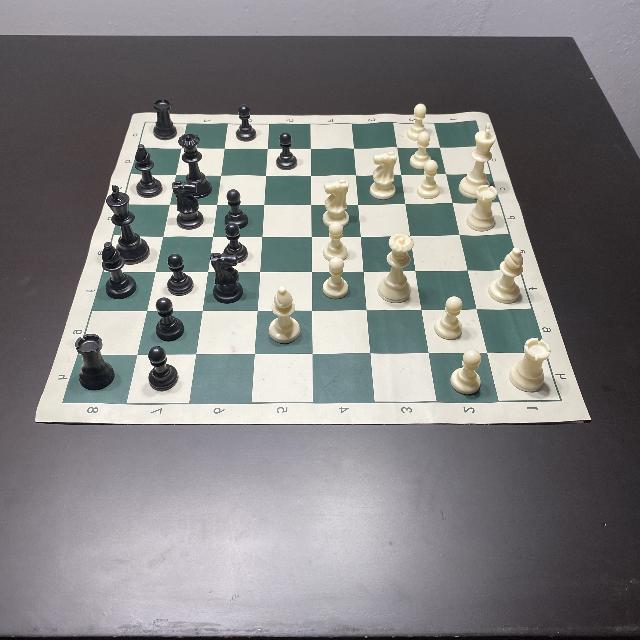black-bishop: (100, 243, 138, 299), (134, 144, 162, 198)
black-king: (106, 184, 150, 266)
black-knight: (210, 254, 244, 302), (172, 181, 204, 229)
black-pawn: (147, 346, 179, 392), (154, 297, 183, 341), (166, 253, 194, 295), (222, 224, 248, 262), (225, 188, 248, 228), (236, 105, 256, 142), (276, 134, 296, 170)
black-queen: (178, 134, 210, 198)
black-rook: (75, 334, 115, 390), (154, 99, 176, 140)
board: (34, 112, 592, 424)
white-bishop: (488, 248, 524, 304), (270, 286, 300, 342)
white-king: (458, 123, 496, 199)
white-knight: (368, 152, 397, 198), (322, 179, 350, 225)
white-pawn: (450, 350, 482, 394), (434, 296, 462, 338), (322, 256, 350, 296), (408, 132, 434, 170), (324, 220, 348, 260), (418, 160, 440, 198), (406, 104, 426, 140)
white-queen: (378, 234, 414, 302)
white-rook: (508, 337, 552, 393), (467, 185, 498, 231)
